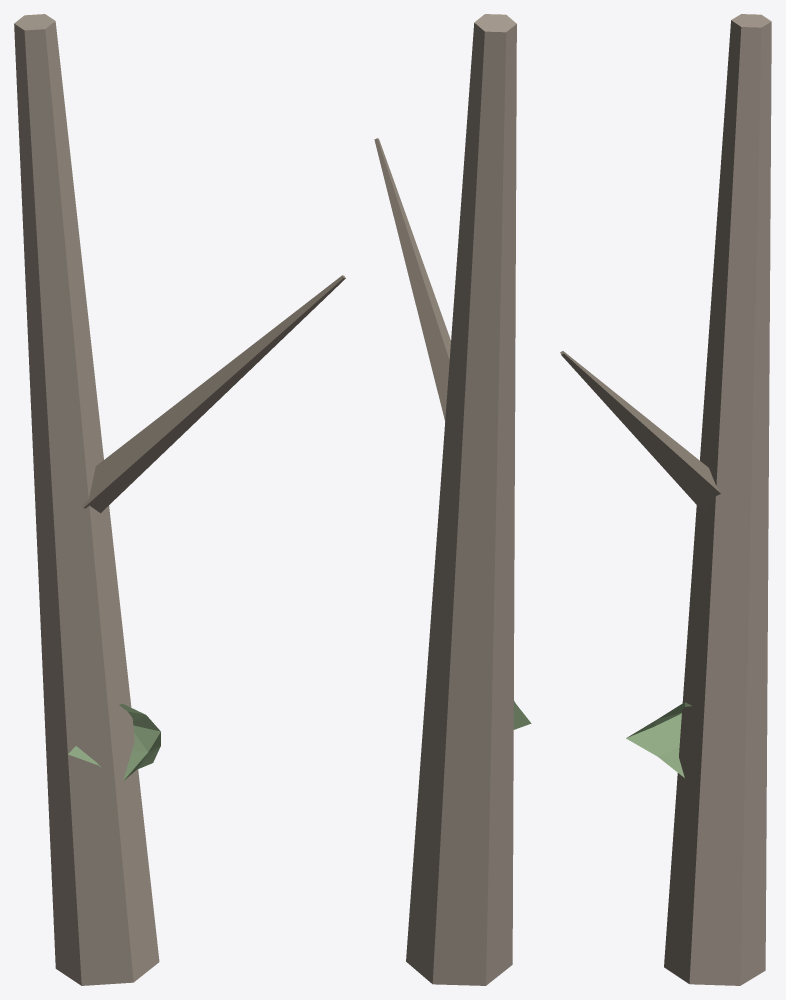
File: snag_v32.glb
3 views of the same model, side by side, from view 1: azimuth 30°, elevation 25°; view 2: azimuth 150°, elevation 25°; view 3: azimuth 270°, elevation 25° (orthographic). The views are drawn at different scales.
Parts seen in each view (by area): view 1: lod0; view 2: lod0; view 3: lod0.
Part boxes in pixels (x1,y1,x2,y2): lod0: (14, 14, 345, 985); lod0: (374, 14, 531, 985); lod0: (560, 14, 771, 985).
Size of what is drawn, in the model's own units: 0.866 by 3.42 by 0.7068.
